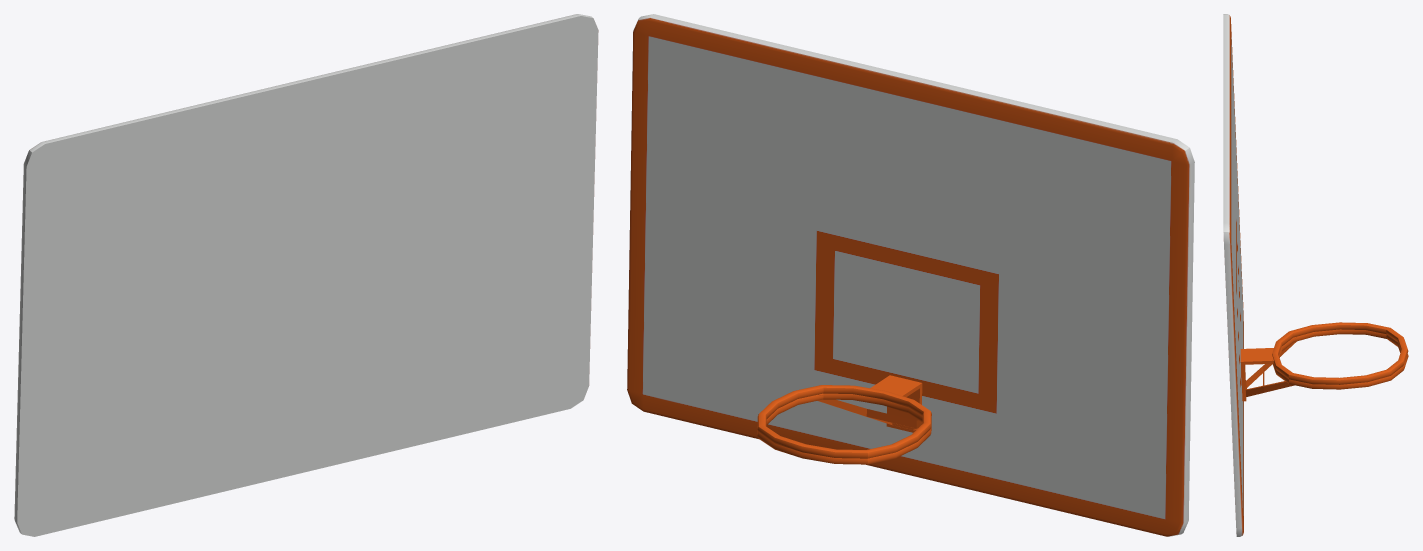
File: basketball hoop.glb
3 renders of one model, left to right at view 1: azimuth 30°, elevation 25°; view 2: azimuth 150°, elevation 25°; view 3: azimuth 270°, elevation 25°, orthographic. The views are drawn at different scales.
Parts seen in each view (by area): view 1: Goal_LOD0; view 2: Goal_LOD0; view 3: Goal_LOD0.
Part boxes in pixels (bbox=[...]): Goal_LOD0: bbox=[14, 14, 598, 536]; Goal_LOD0: bbox=[627, 14, 1194, 536]; Goal_LOD0: bbox=[1223, 14, 1408, 536].
Size of the model in its own units: 1.83 by 1.23 by 0.6515.
1 material, 1 textured.
